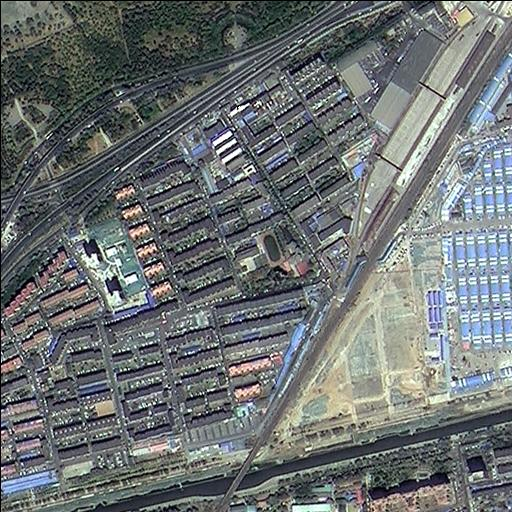school: (229, 227, 294, 275)
